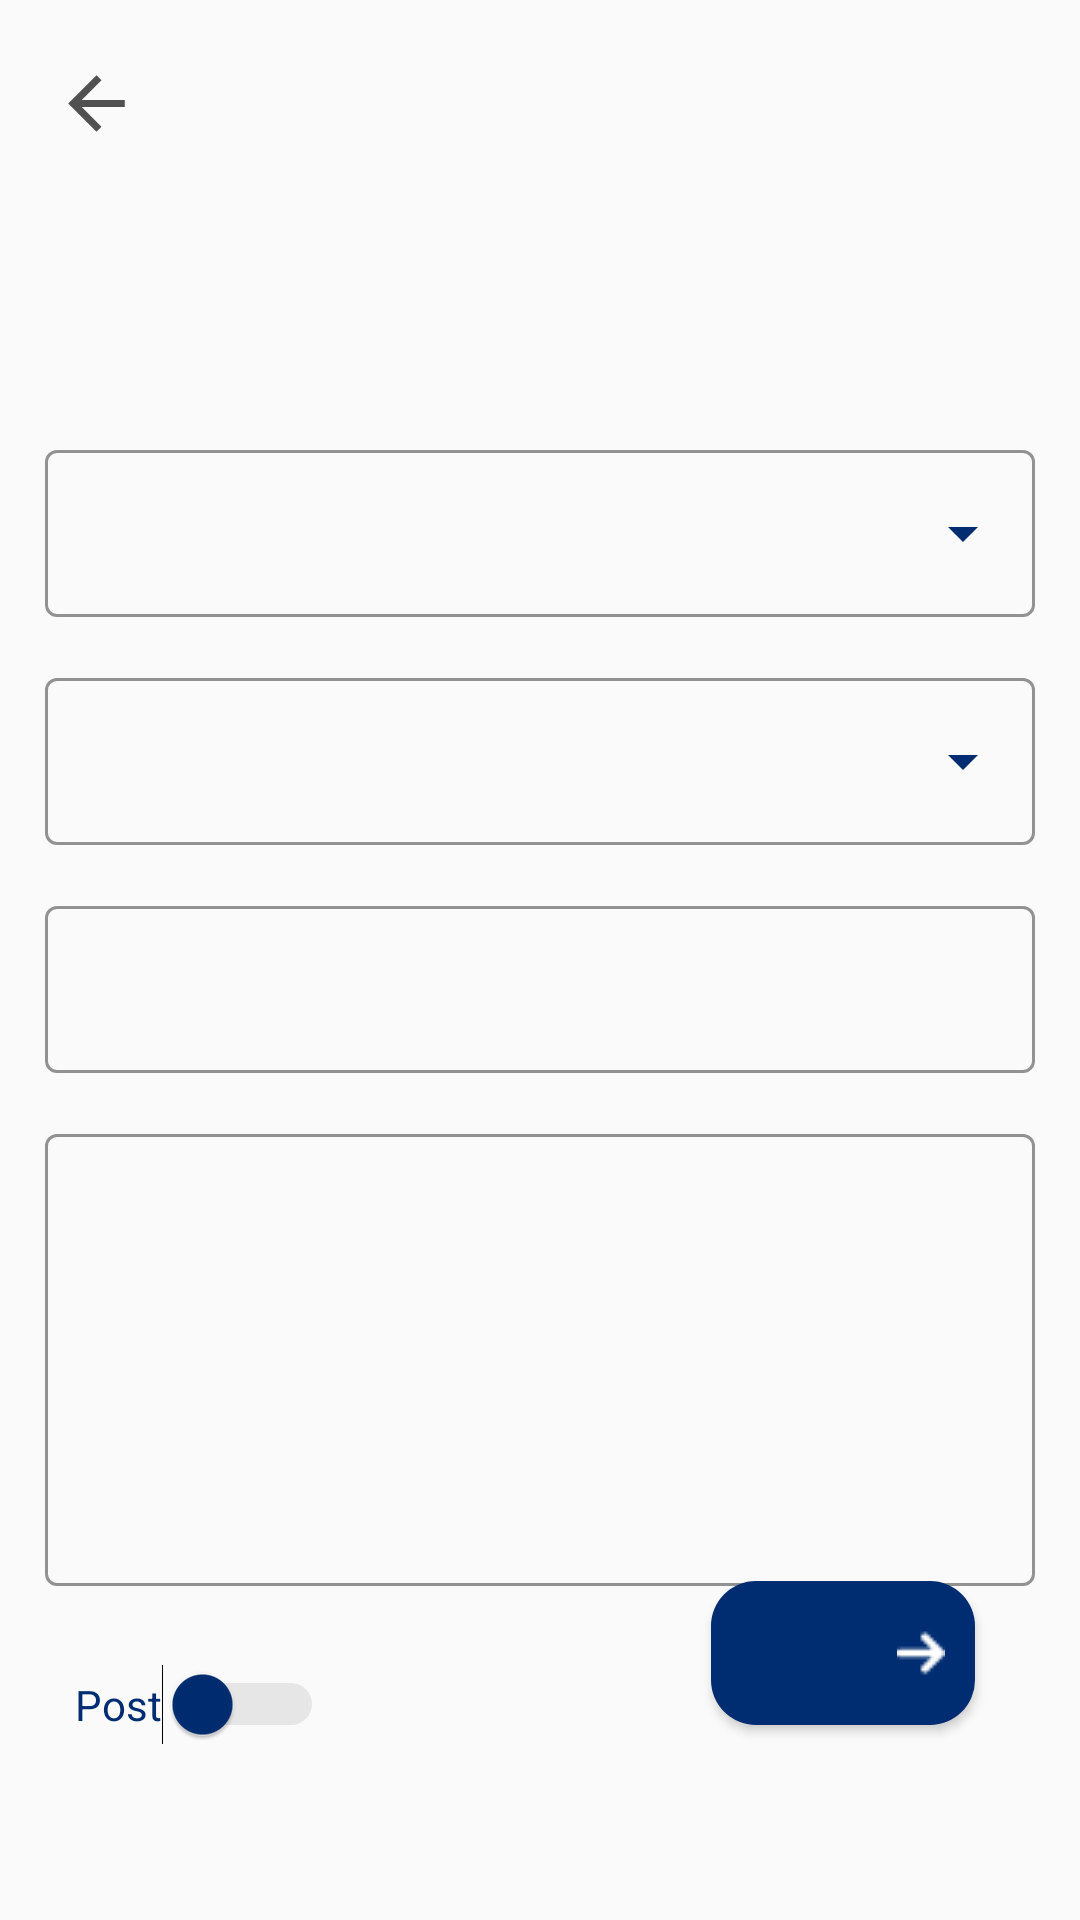

Where to tap for icons on this 1080px x 1920px app screen, as (x=x, y=y):
back: (x=96, y=103)
